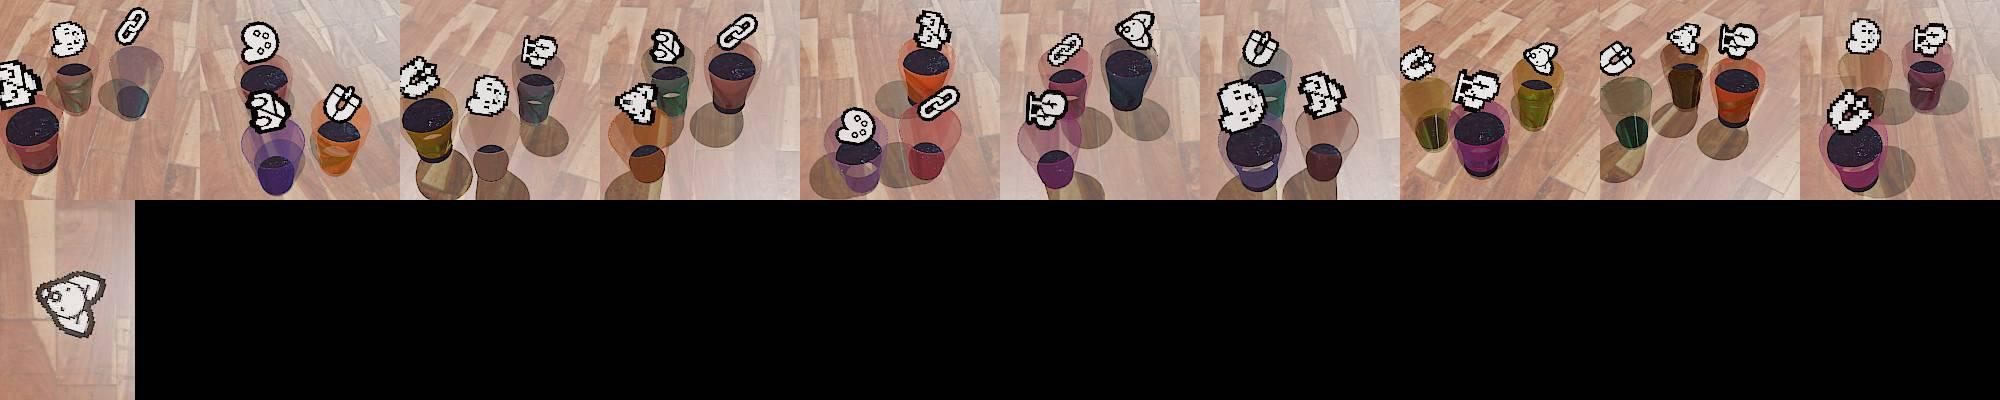icon: (34, 269, 107, 340), (1216, 78, 1267, 134), (1296, 70, 1348, 120), (1825, 88, 1874, 134), (0, 59, 43, 108), (1452, 69, 1501, 111), (466, 73, 510, 117), (398, 56, 441, 99), (246, 90, 291, 132), (615, 83, 658, 125), (1024, 88, 1068, 129), (239, 20, 279, 64), (321, 83, 365, 124), (912, 9, 954, 50), (716, 13, 759, 52), (917, 84, 960, 122), (1242, 27, 1282, 68), (1718, 20, 1759, 60), (1116, 10, 1156, 50), (835, 106, 875, 145), (1399, 45, 1439, 82), (519, 33, 560, 69), (51, 20, 88, 59), (1912, 22, 1952, 57), (1667, 22, 1708, 56), (649, 28, 685, 66), (1046, 32, 1084, 68), (1846, 18, 1881, 55), (1598, 41, 1635, 76), (115, 8, 149, 46), (1523, 41, 1559, 76)
